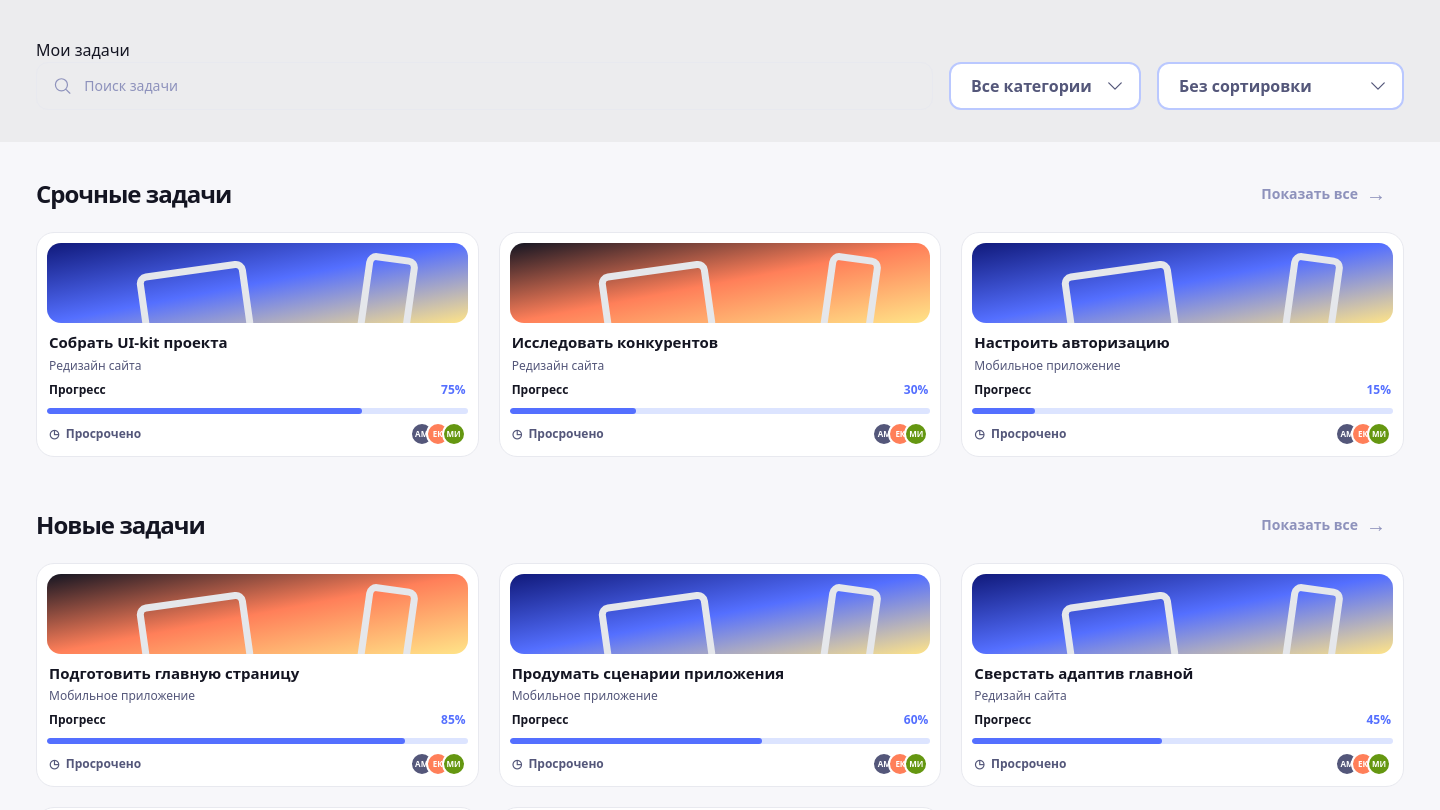
TaskExplorer › удаление чипа возвращает задачи этой категории
Select "UX" in the dropdown named "Категория задачи" at (1045,86), box [949, 62, 1141, 110]
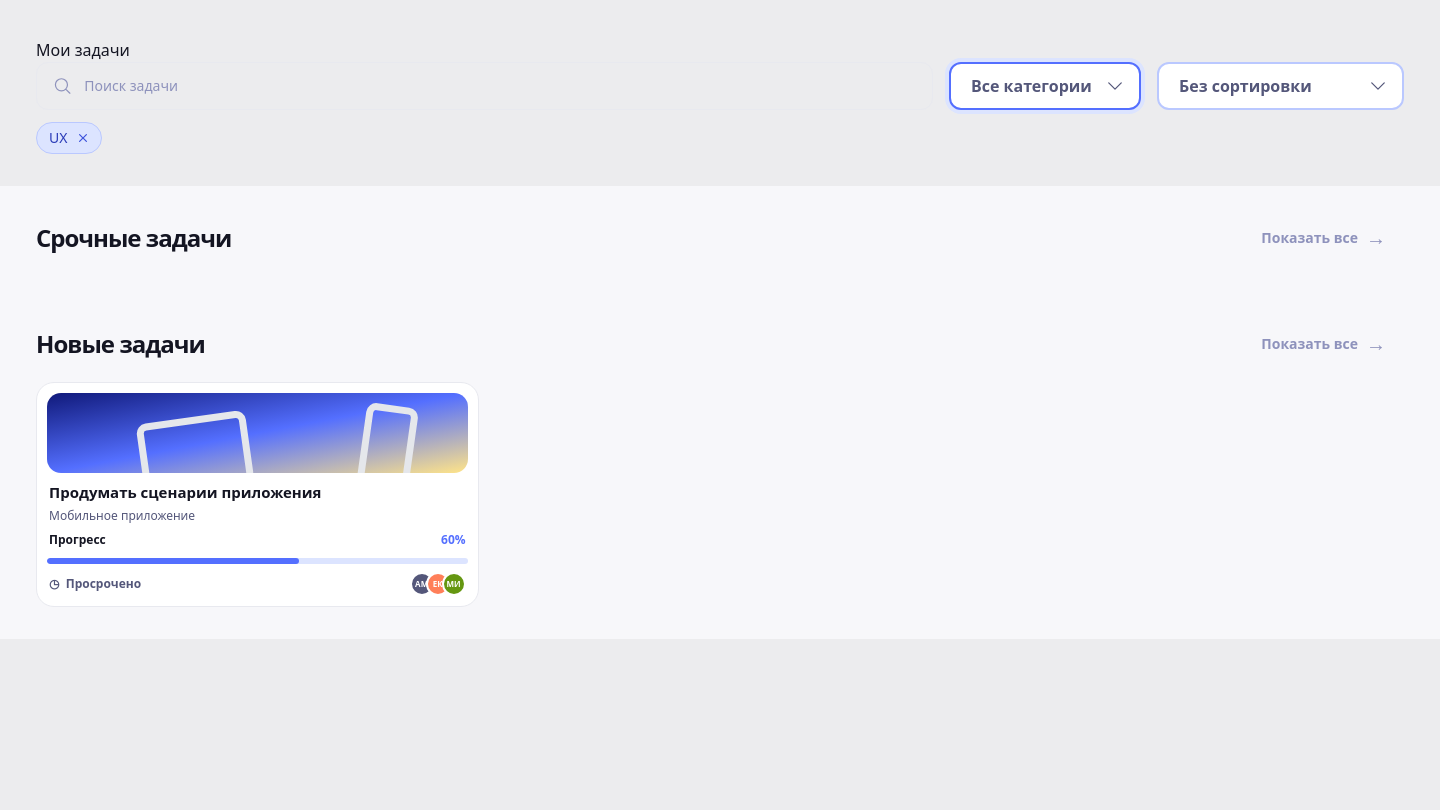
Expected: the link "Собрать UI-kit проекта" is gone
Click the button named "Удалить категорию UX" at (84,138), box [74, 128, 94, 148]
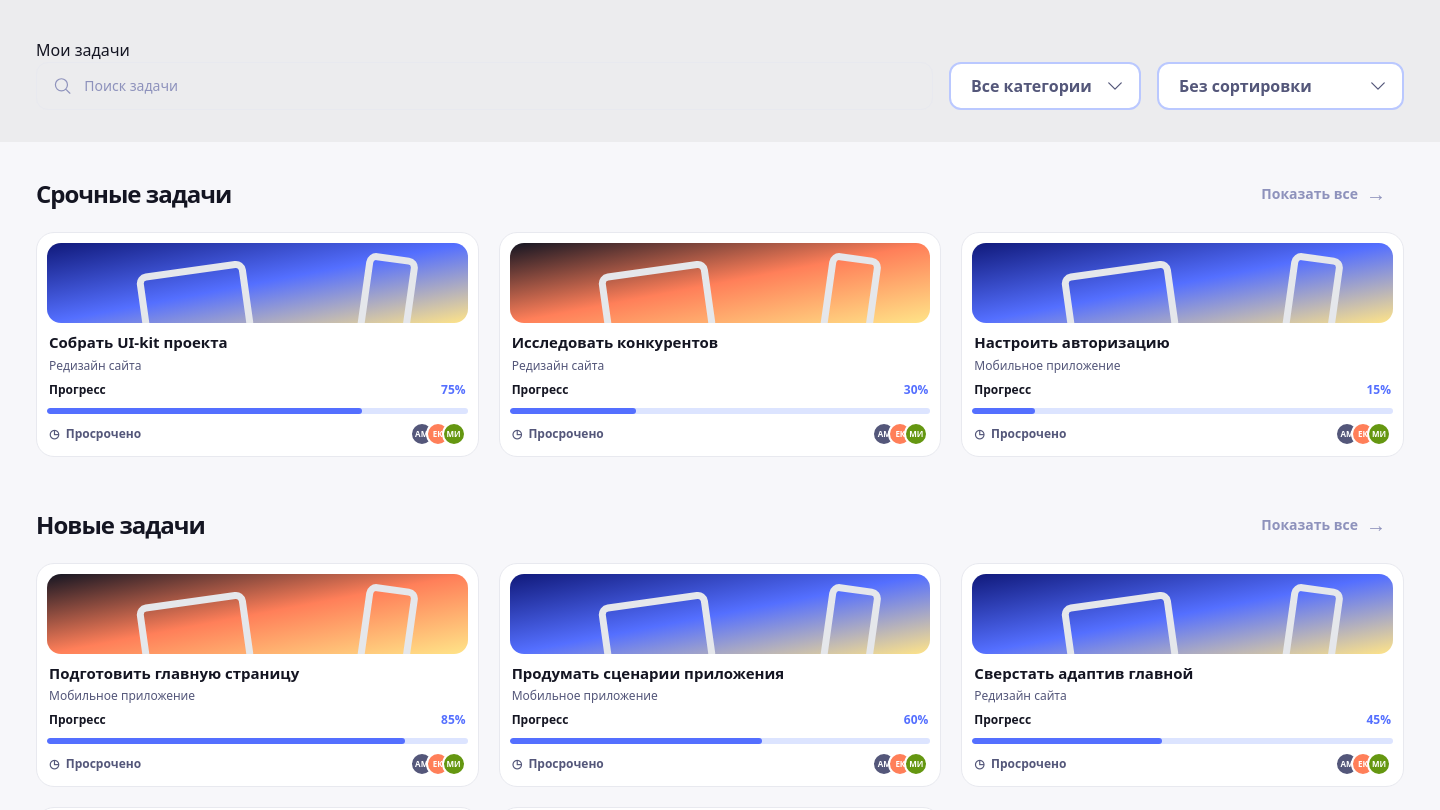
Expected: the link "Собрать UI-kit проекта" is shown, [49, 332, 228, 352]
